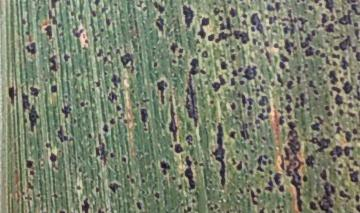tarspot: (277, 120, 304, 213), (184, 55, 207, 133), (209, 120, 229, 191), (318, 167, 338, 213), (176, 1, 197, 31), (166, 105, 182, 143), (182, 154, 197, 193), (153, 76, 171, 106), (93, 135, 108, 168), (54, 124, 75, 146), (252, 11, 268, 39), (308, 113, 326, 136), (306, 135, 330, 152), (207, 74, 229, 92), (137, 108, 154, 130), (28, 105, 42, 131), (273, 168, 286, 196), (17, 89, 30, 116), (332, 143, 357, 157), (45, 53, 60, 76), (155, 158, 171, 179), (233, 28, 251, 46), (21, 40, 41, 56), (117, 52, 137, 68), (244, 62, 259, 83), (303, 151, 318, 172), (40, 24, 58, 41), (198, 12, 209, 39), (150, 1, 171, 15), (5, 83, 17, 107), (59, 102, 75, 120), (45, 10, 63, 26), (337, 31, 353, 49), (346, 167, 360, 187), (151, 17, 167, 34), (216, 30, 232, 46), (109, 72, 124, 89), (282, 37, 297, 54), (235, 89, 246, 111), (105, 92, 120, 108), (78, 196, 92, 213), (46, 150, 61, 165), (68, 25, 85, 38), (211, 5, 228, 18), (238, 121, 249, 141), (257, 93, 271, 108), (298, 90, 309, 109), (278, 26, 297, 37), (106, 180, 122, 193), (339, 55, 351, 71), (322, 1, 338, 13), (215, 22, 236, 31), (333, 92, 344, 109), (304, 200, 318, 213), (217, 58, 229, 73), (342, 79, 352, 97), (184, 132, 195, 148), (284, 76, 295, 92), (264, 48, 273, 67), (275, 71, 284, 90), (47, 81, 59, 95), (295, 14, 309, 26), (168, 38, 179, 53), (61, 49, 71, 65), (29, 84, 42, 96), (78, 97, 91, 109), (92, 77, 105, 89), (48, 1, 62, 12), (168, 55, 182, 66), (257, 112, 272, 122), (24, 157, 36, 169), (93, 46, 105, 58), (228, 127, 237, 143), (103, 16, 114, 29), (133, 200, 146, 211), (240, 10, 251, 23), (208, 201, 221, 212), (319, 12, 330, 25), (228, 99, 238, 113), (343, 129, 353, 143), (139, 95, 153, 105), (246, 96, 254, 113), (273, 17, 288, 26), (353, 31, 360, 50), (24, 180, 36, 191), (152, 189, 163, 201), (296, 23, 308, 34), (228, 6, 238, 19), (264, 2, 274, 15), (274, 1, 284, 14), (273, 41, 283, 54), (350, 3, 360, 16), (262, 185, 275, 195), (334, 121, 342, 137), (113, 103, 124, 114), (100, 123, 111, 134), (240, 151, 251, 162), (284, 6, 295, 17), (107, 117, 119, 127), (282, 104, 294, 114), (339, 189, 352, 198), (345, 99, 354, 112), (230, 153, 238, 167), (180, 206, 196, 213), (234, 77, 245, 87), (261, 38, 272, 48), (316, 63, 327, 73), (300, 38, 310, 49), (304, 47, 314, 58), (87, 9, 99, 18), (351, 126, 360, 138), (307, 77, 316, 89), (277, 112, 284, 127), (329, 84, 344, 91), (279, 52, 289, 62), (283, 92, 293, 102), (43, 140, 54, 149), (108, 150, 117, 161), (246, 167, 257, 176), (206, 33, 217, 42), (305, 2, 314, 13), (309, 27, 318, 38), (284, 113, 296, 121), (251, 195, 258, 208), (324, 26, 337, 33), (267, 175, 274, 188), (50, 191, 59, 201), (85, 130, 94, 140), (120, 154, 129, 164), (201, 50, 210, 60), (254, 185, 263, 195), (226, 53, 236, 62), (337, 108, 346, 118), (277, 204, 287, 213), (23, 29, 34, 37), (26, 170, 38, 177), (302, 173, 309, 185), (160, 121, 167, 133), (74, 70, 83, 79), (72, 85, 81, 94), (120, 116, 129, 125), (208, 97, 217, 106), (351, 159, 360, 168), (101, 5, 111, 13), (167, 141, 175, 151), (249, 25, 257, 35), (311, 87, 319, 97), (126, 23, 136, 31), (312, 47, 322, 55), (20, 195, 36, 200), (332, 59, 340, 69), (278, 93, 284, 106), (96, 206, 107, 213), (348, 109, 355, 120), (136, 1, 145, 9), (150, 60, 159, 68), (170, 175, 179, 183), (190, 196, 198, 205), (255, 72, 263, 81), (269, 79, 277, 88), (252, 118, 261, 126), (336, 163, 345, 171), (35, 191, 44, 199), (92, 186, 102, 193), (236, 64, 243, 74), (355, 50, 360, 64), (256, 167, 266, 174), (91, 37, 102, 43), (144, 6, 150, 17), (354, 192, 360, 203), (55, 208, 68, 213), (19, 17, 27, 25), (75, 184, 83, 192), (129, 177, 137, 185), (237, 186, 245, 194), (324, 38, 332, 46), (312, 194, 320, 202), (129, 88, 137, 96), (63, 1, 72, 8), (138, 177, 147, 184), (216, 15, 225, 22), (259, 206, 268, 213), (260, 134, 267, 143), (332, 45, 341, 52), (294, 101, 301, 110), (266, 145, 276, 151), (337, 169, 343, 179), (303, 60, 309, 70), (234, 147, 242, 154), (243, 187, 251, 194), (330, 155, 337, 163), (260, 160, 268, 167), (175, 183, 184, 189), (194, 47, 203, 53), (354, 204, 360, 213), (323, 103, 329, 112), (296, 64, 302, 73), (343, 1, 360, 4), (261, 105, 266, 115), (353, 21, 360, 28), (63, 93, 70, 100), (322, 78, 329, 85), (91, 1, 103, 5), (69, 9, 75, 17), (102, 69, 108, 77), (318, 1, 324, 9), (356, 71, 360, 83), (263, 26, 272, 31), (224, 208, 233, 213), (293, 1, 304, 5), (250, 127, 257, 133), (335, 8, 342, 14), (293, 96, 300, 102), (333, 18, 338, 25), (179, 201, 186, 206), (194, 160, 199, 165), (329, 122, 334, 127)
